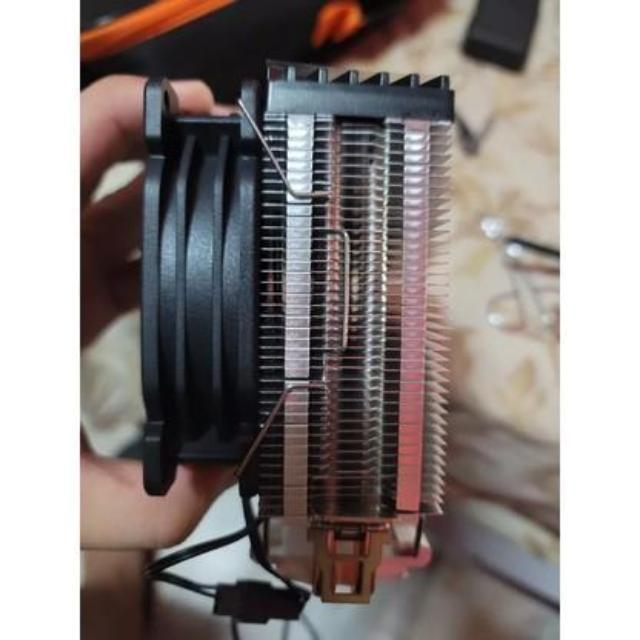CPU_Fan: (138, 62, 452, 610)
